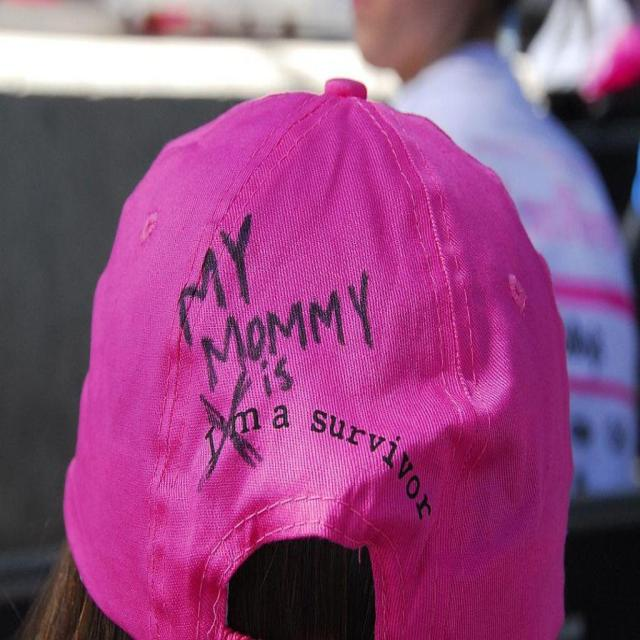Hat: (64, 76, 565, 639)
